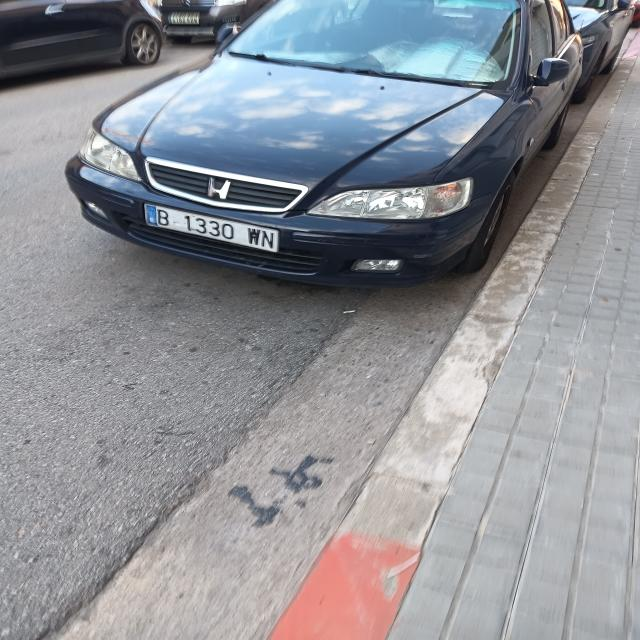license_plate-34Td: (145, 204, 279, 252)
